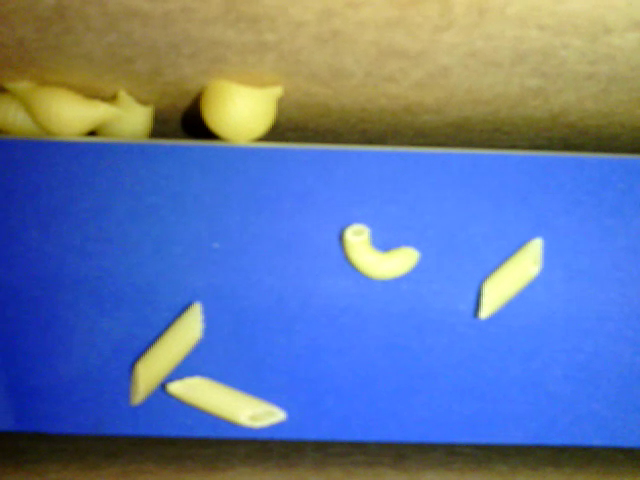elbow: (343, 222, 420, 279)
penne: (130, 297, 204, 403), (166, 372, 286, 432), (477, 235, 541, 322)
shell: (1, 79, 123, 143), (200, 78, 285, 146), (95, 92, 154, 136), (1, 93, 54, 138)
